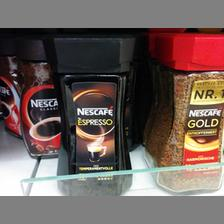Kaffee: (40, 29, 132, 194), (148, 31, 224, 194)
